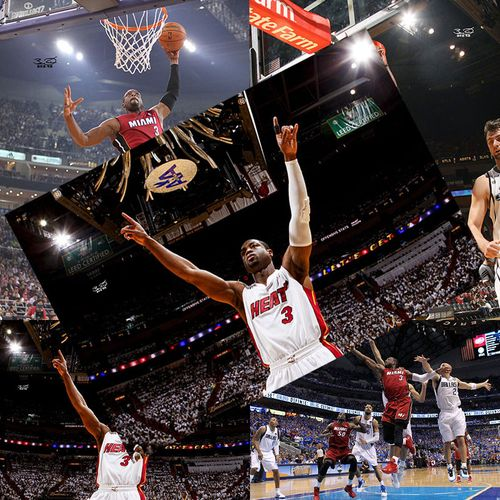ball: (157, 21, 187, 51)
